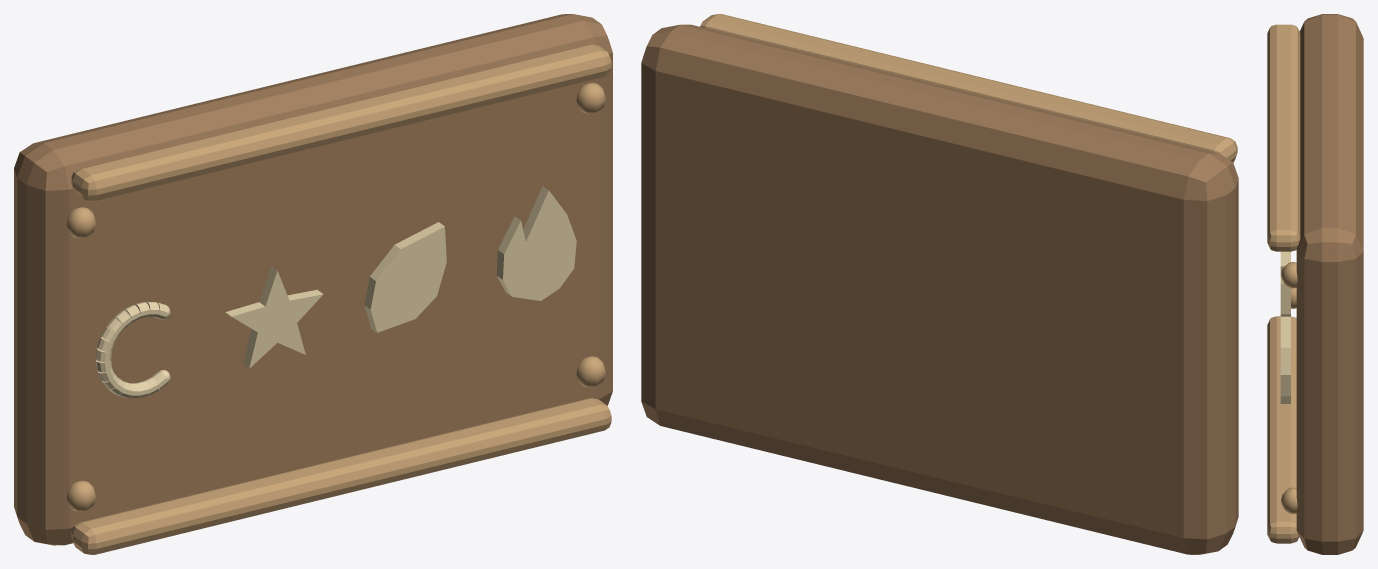
File: necro-clue.glb
3 renders of one model, left to right at view 1: azimuth 30°, elevation 25°; view 2: azimuth 150°, elevation 25°; view 3: azimuth 270°, elevation 25°, orthographic. The views are drawn at different scales.
Visible parts, largest first — view 1: necro-clue; view 2: necro-clue; view 3: necro-clue.
Boxes of the visible parts, left/top/right/bottom form: necro-clue: left=14, top=14, right=612, bottom=554; necro-clue: left=641, top=14, right=1238, bottom=554; necro-clue: left=1267, top=14, right=1363, bottom=554.
Size of the model in its own units: 0.54 by 0.35 by 0.0935.
